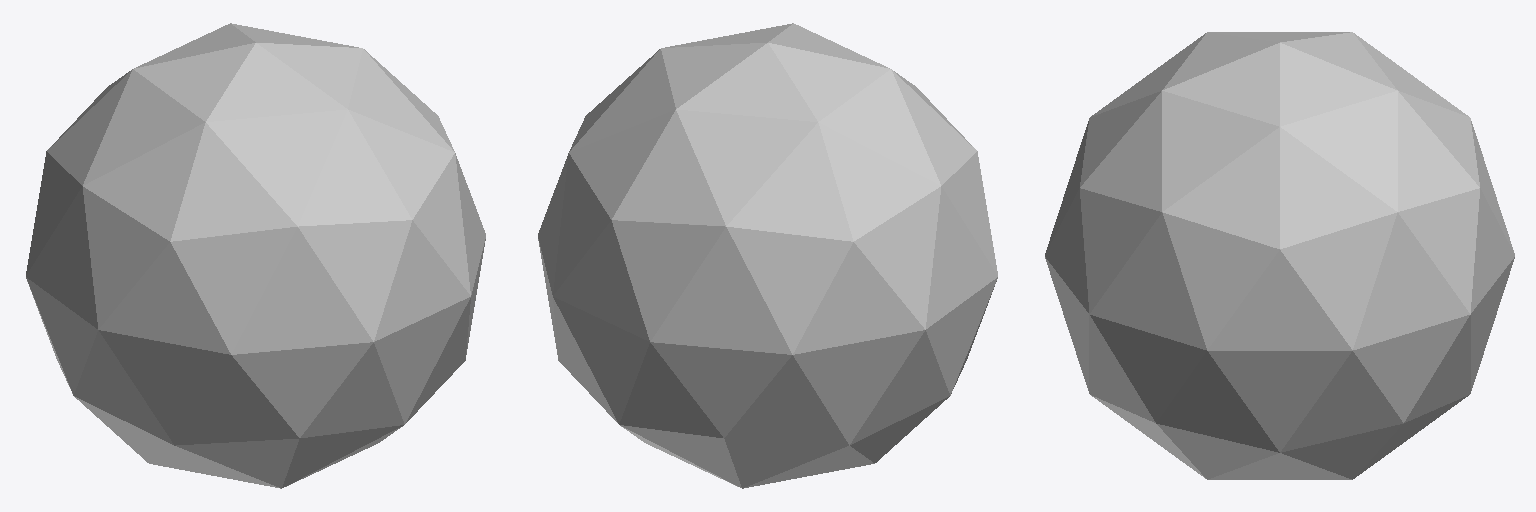
Rendered from 120mmICO球.obj.
3 views of the same model, side by side, from view 1: azimuth 30°, elevation 25°; view 2: azimuth 150°, elevation 25°; view 3: azimuth 270°, elevation 25° (orthographic).
Visible parts, largest first — view 1: ICO球; view 2: ICO球; view 3: ICO球.
Part boxes in pixels (bbox=[...]): ICO球: bbox=[26, 23, 485, 488]; ICO球: bbox=[538, 23, 997, 488]; ICO球: bbox=[1045, 32, 1514, 479].
Bounding box in the file's own units: 0.1141 × 0.12 × 0.12.